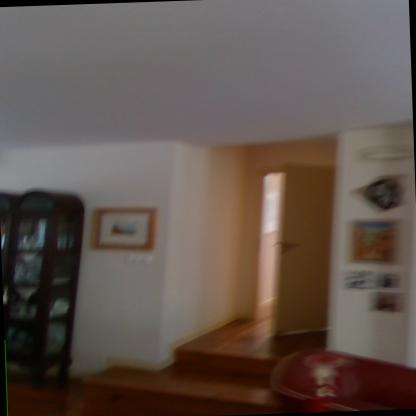semi: (239, 146, 348, 354)
